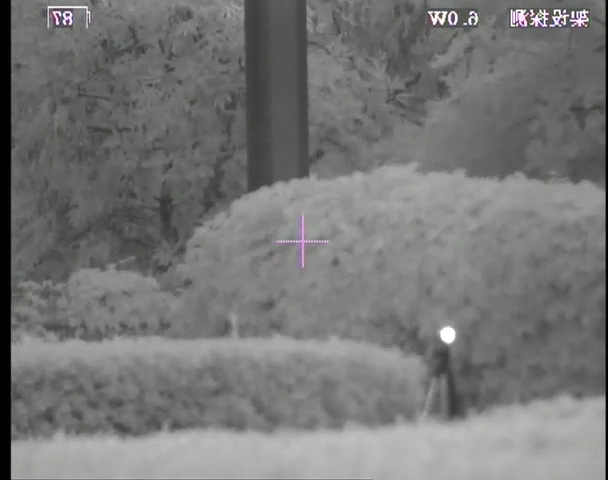my: (439, 325, 456, 345)
